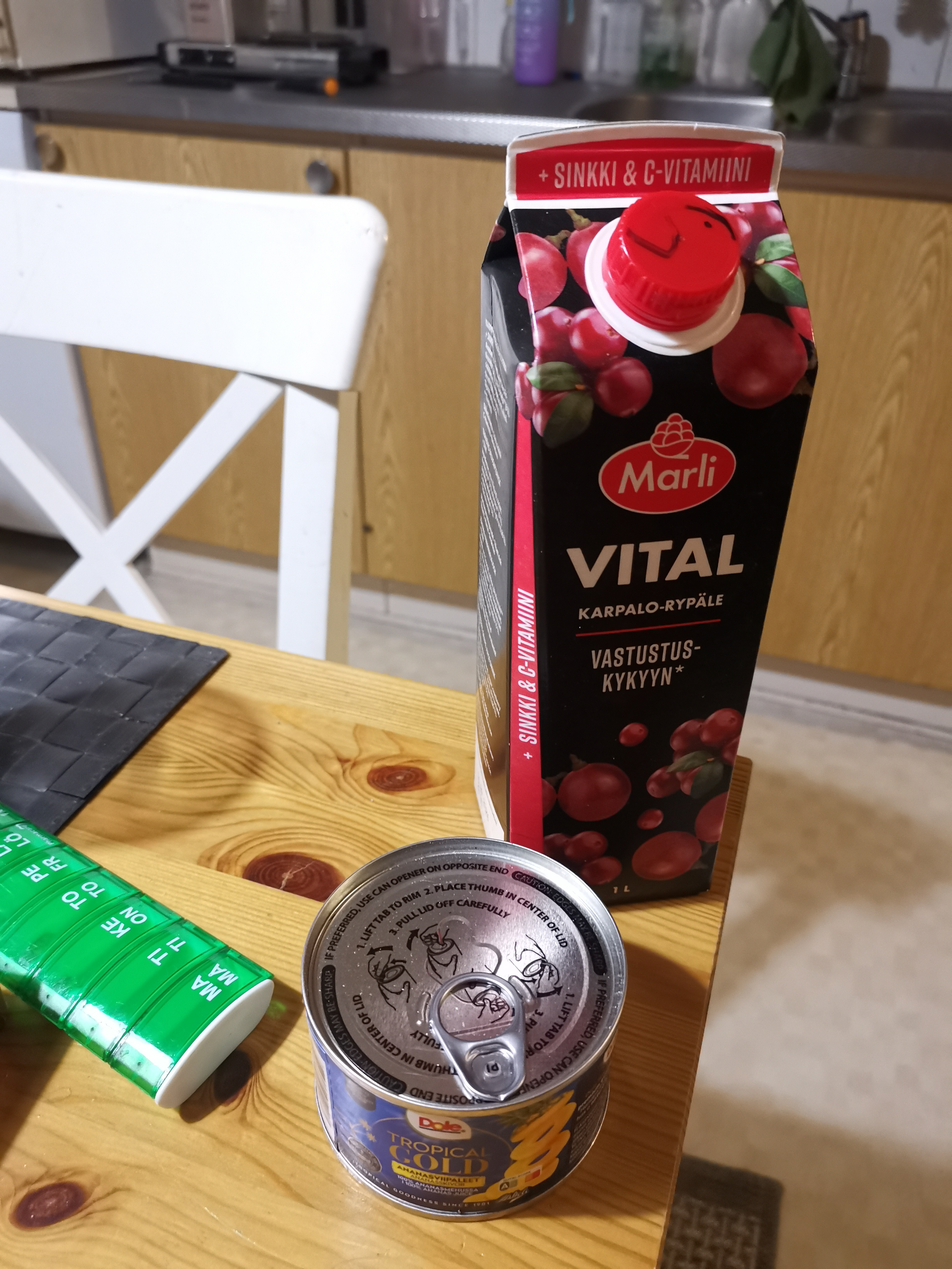Dryckeskartong: (470, 117, 823, 914)
Konservburk: (298, 833, 631, 1226)
